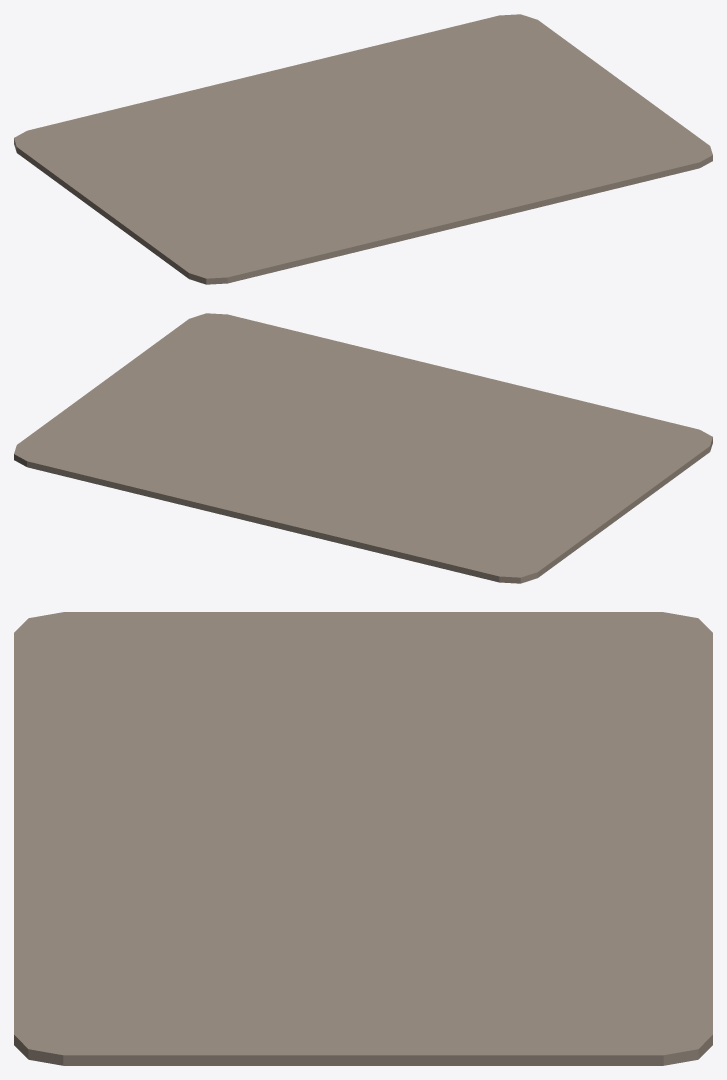
Rendered from Carpet1_C3.fbx.
3 renders of one model, top to bottom at view 1: azimuth 30°, elevation 25°; view 2: azimuth 150°, elevation 25°; view 3: azimuth 270°, elevation 25°, orthographic. The views are drawn at different scales.
Visible parts, largest first — view 1: Carpet1_C3; view 2: Carpet1_C3; view 3: Carpet1_C3.
Boxes of the visible parts, x1,y1,x2,y2 form: Carpet1_C3: (14,14,712,284); Carpet1_C3: (14,313,712,583); Carpet1_C3: (14,612,712,1065).
Size of the model in its own units: 90 by 1 by 60.
